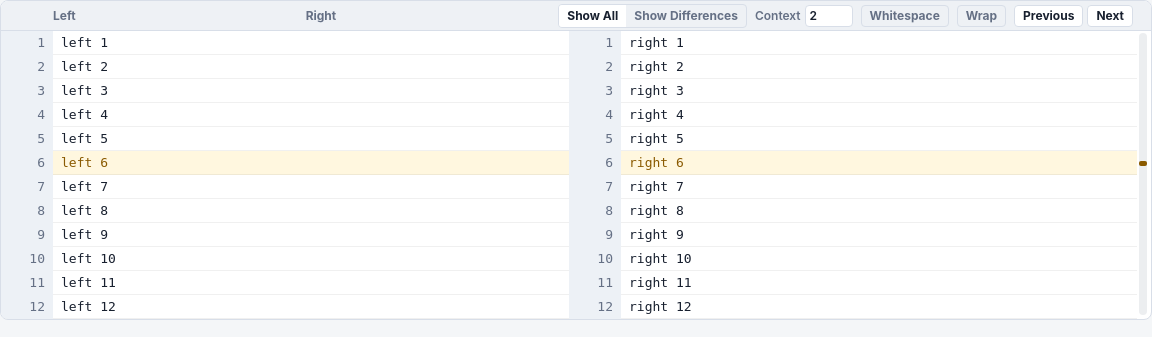
TextDiffPanel › filters to differences with surrounding context
This screenshot has width=1152, height=337.
Click the button with test id "text-diff-show-differences": point(686, 16) [626,4,746,26]
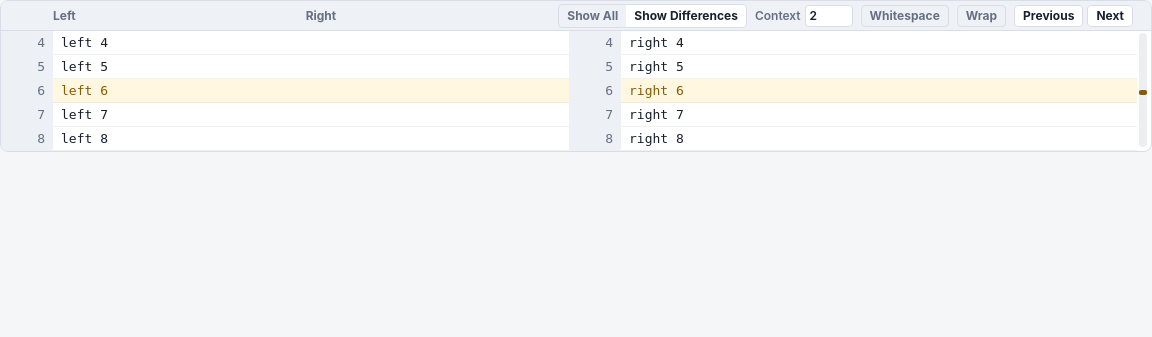
Expected: the text "left 4" is shown, [61,35,108,50]
Expected: the text "left 1" is gone
Expected: the text "left 12" is gone
